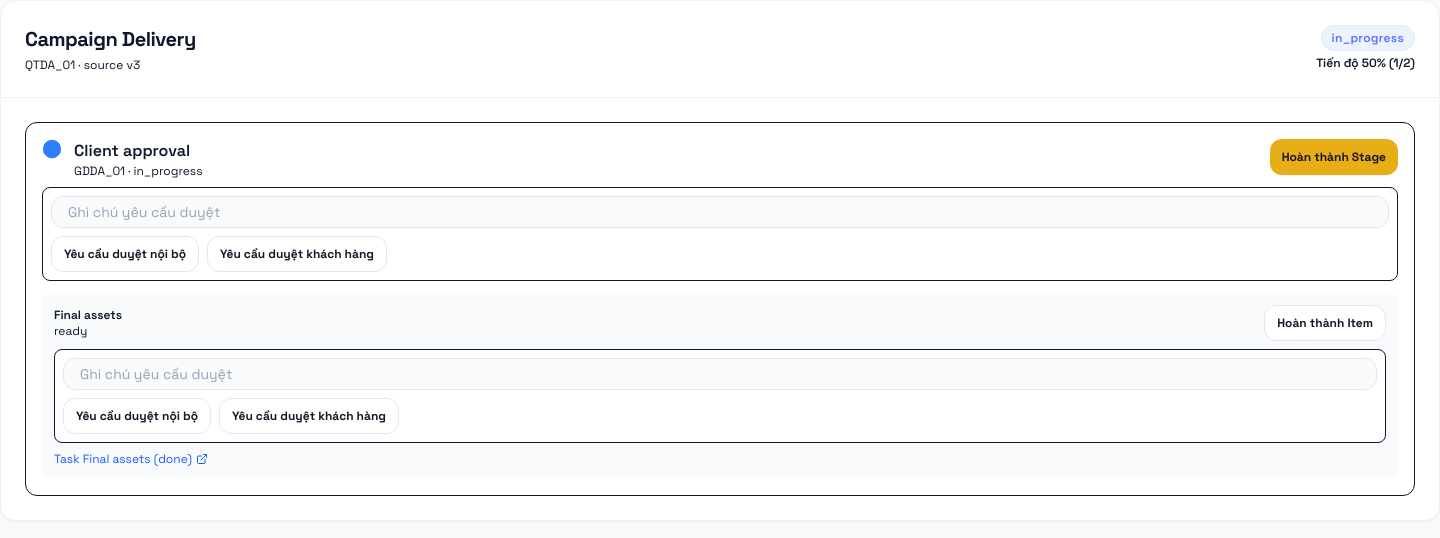
it: ProjectWorkflowPanel › completes an Item through panel refresh without reloading the page
Click the button "Hoàn thành Item" at (1325, 323), box [1264,305,1386,341]
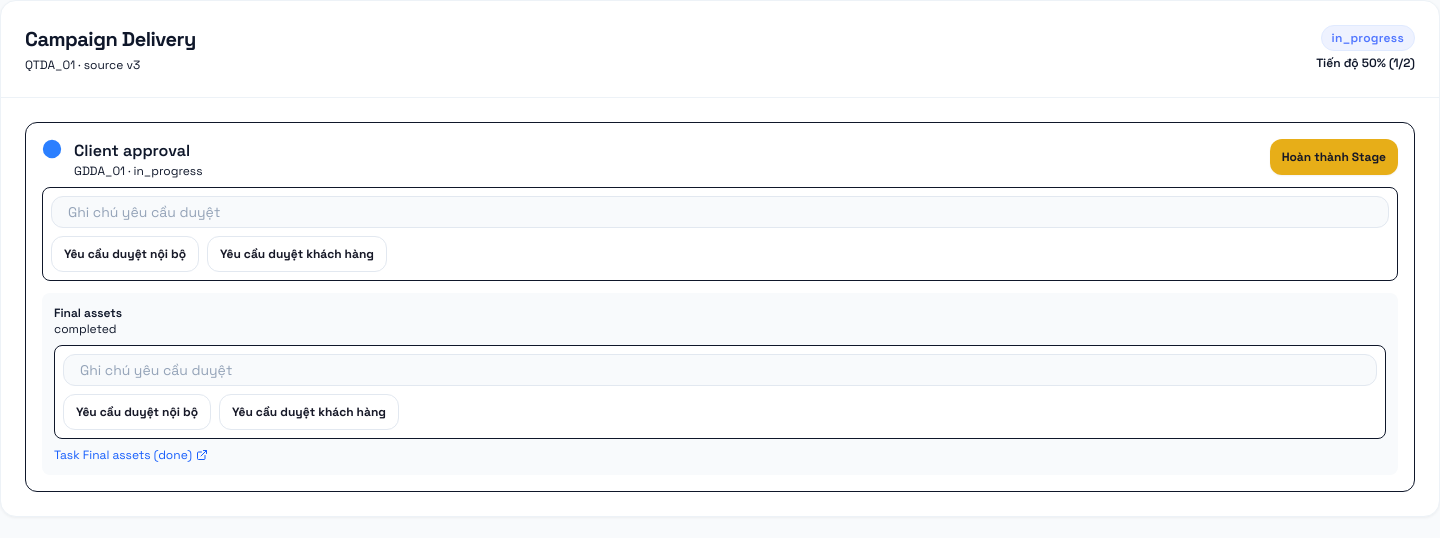
Now the element with test id "project-item-item-1" shows "completed", box [54,321,117,337]
